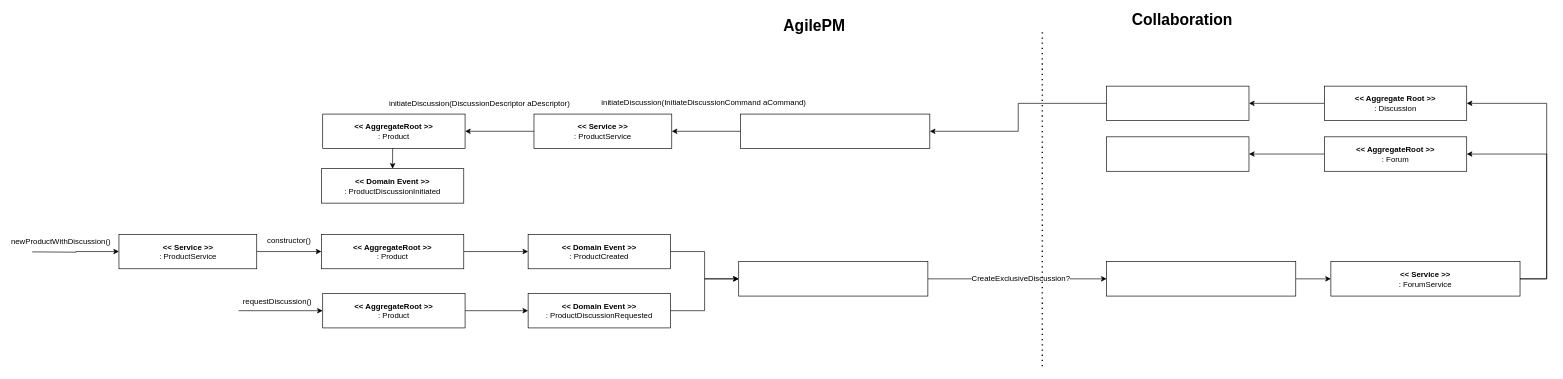
Some shapes in this 1563 by 379 pixel diagram are drawn without their labels. The shapes that lost their labels are listed below. From the top down, each one's box as (x1, y1, x2, y2) in pixels, then its label:
(1106, 85, 1249, 121): << Domain Event >> : DiscussionStarted
(740, 113, 930, 149): << Listener >> : DiscussionStartedListener
(1106, 136, 1249, 171): << Domain Event >> : ForumStarted
(738, 261, 928, 296): << Listener >> : ProductDuscussionRequestedListener
(1106, 261, 1296, 296): << Listener >> : ExclusiveDiscussionCreationListener
